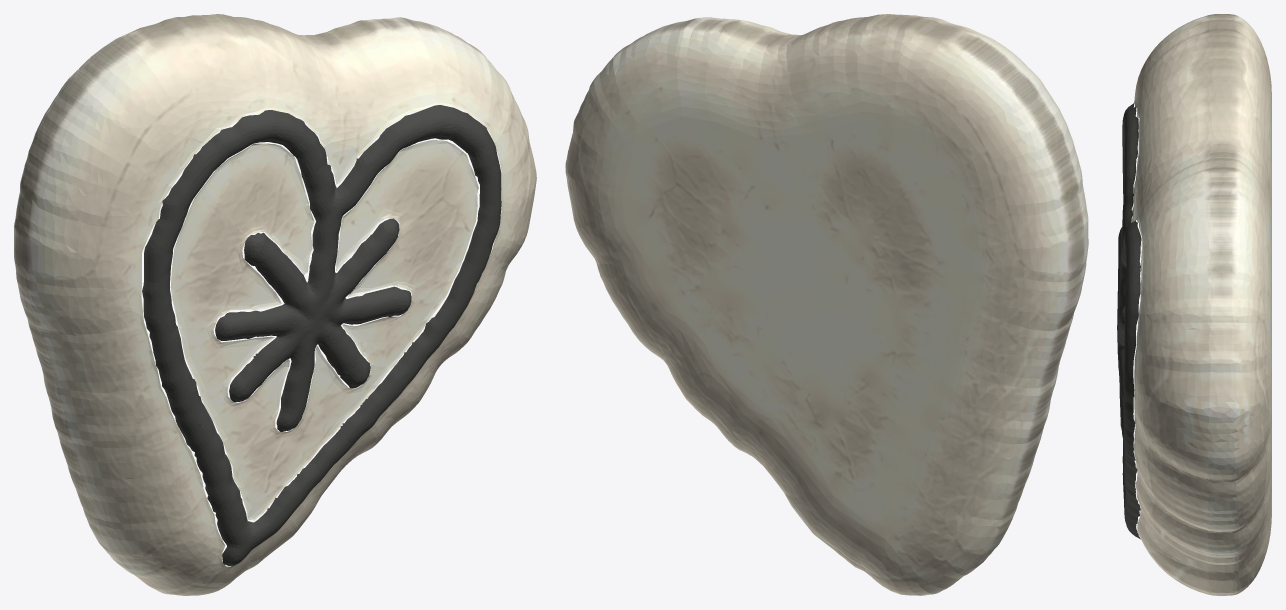
Rendered from IAMWE_XMAS_HEART.glb.
3 renders of one model, left to right at view 1: azimuth 30°, elevation 25°; view 2: azimuth 150°, elevation 25°; view 3: azimuth 270°, elevation 25°, orthographic. The views are drawn at different scales.
Visible parts, largest first — view 1: heart_paper, heart_thread; view 2: heart_paper; view 3: heart_paper, heart_thread.
Part boxes in pixels (left/top/right/bottom): heart_paper: left=14, top=14, right=536, bottom=595; heart_thread: left=142, top=105, right=501, bottom=566; heart_paper: left=565, top=14, right=1088, bottom=595; heart_paper: left=1131, top=14, right=1271, bottom=595; heart_thread: left=1117, top=103, right=1141, bottom=539.
Size of the model in its own units: 0.9289 by 1 by 0.254.
2 materials, 1 textured.
